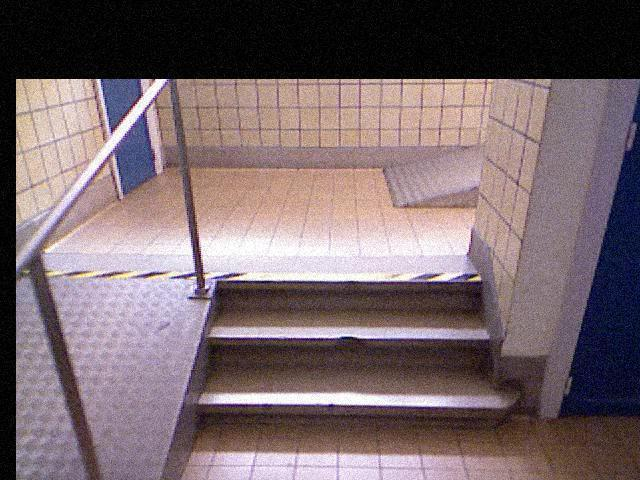Escaleras: (183, 265, 516, 442)
